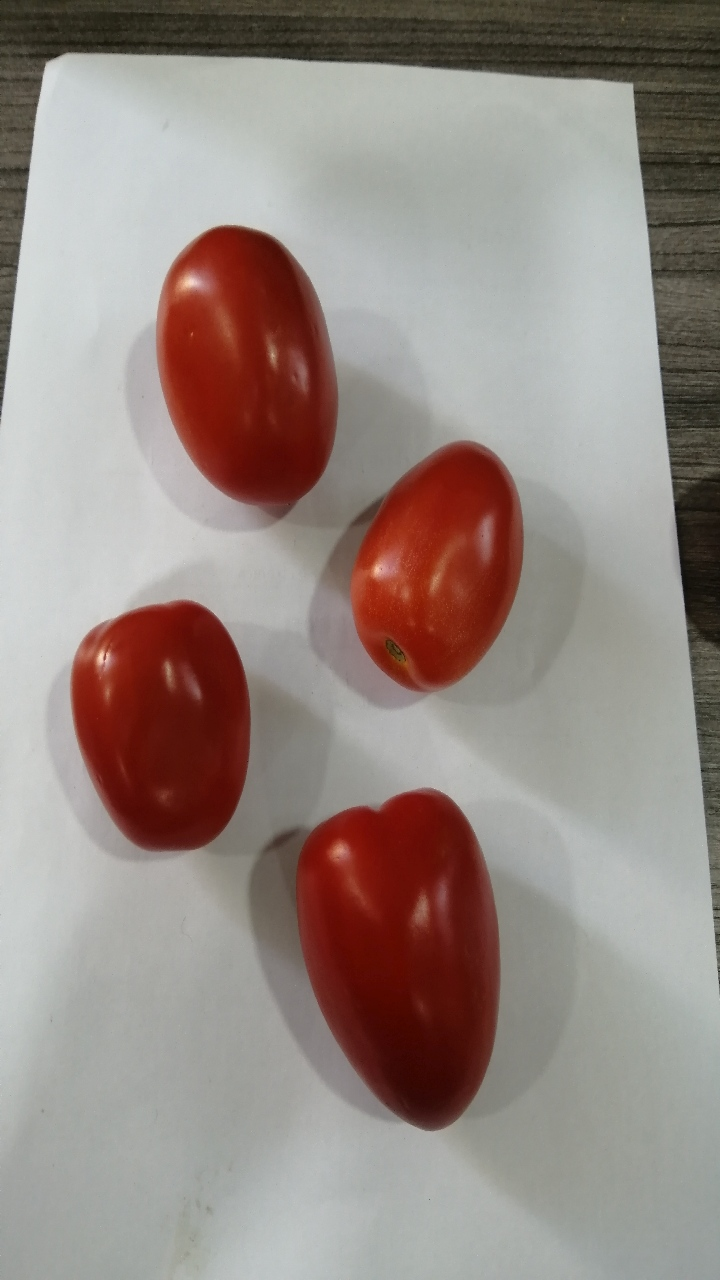tomateRojo: (275, 777, 518, 1152), (126, 209, 351, 523), (332, 417, 543, 714), (51, 583, 255, 862)
